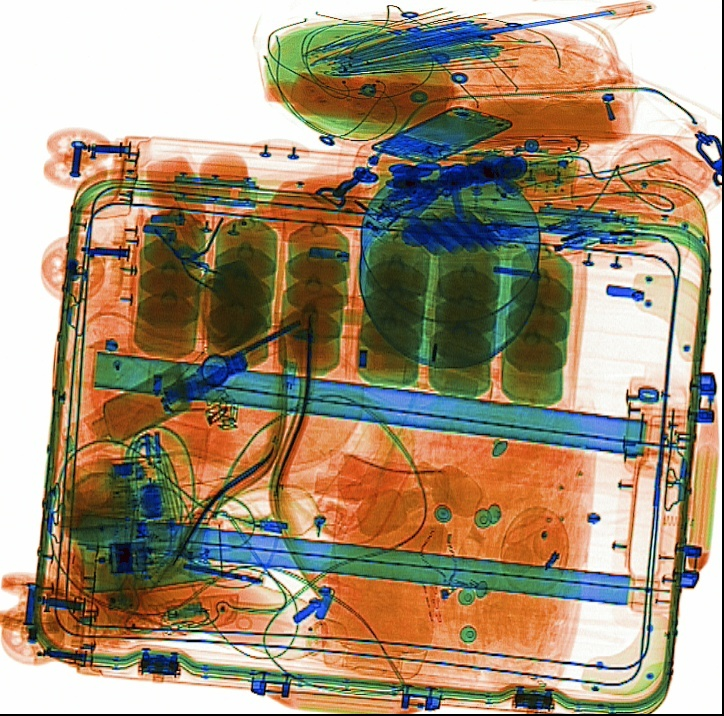powerbank: (406, 201, 509, 258)
